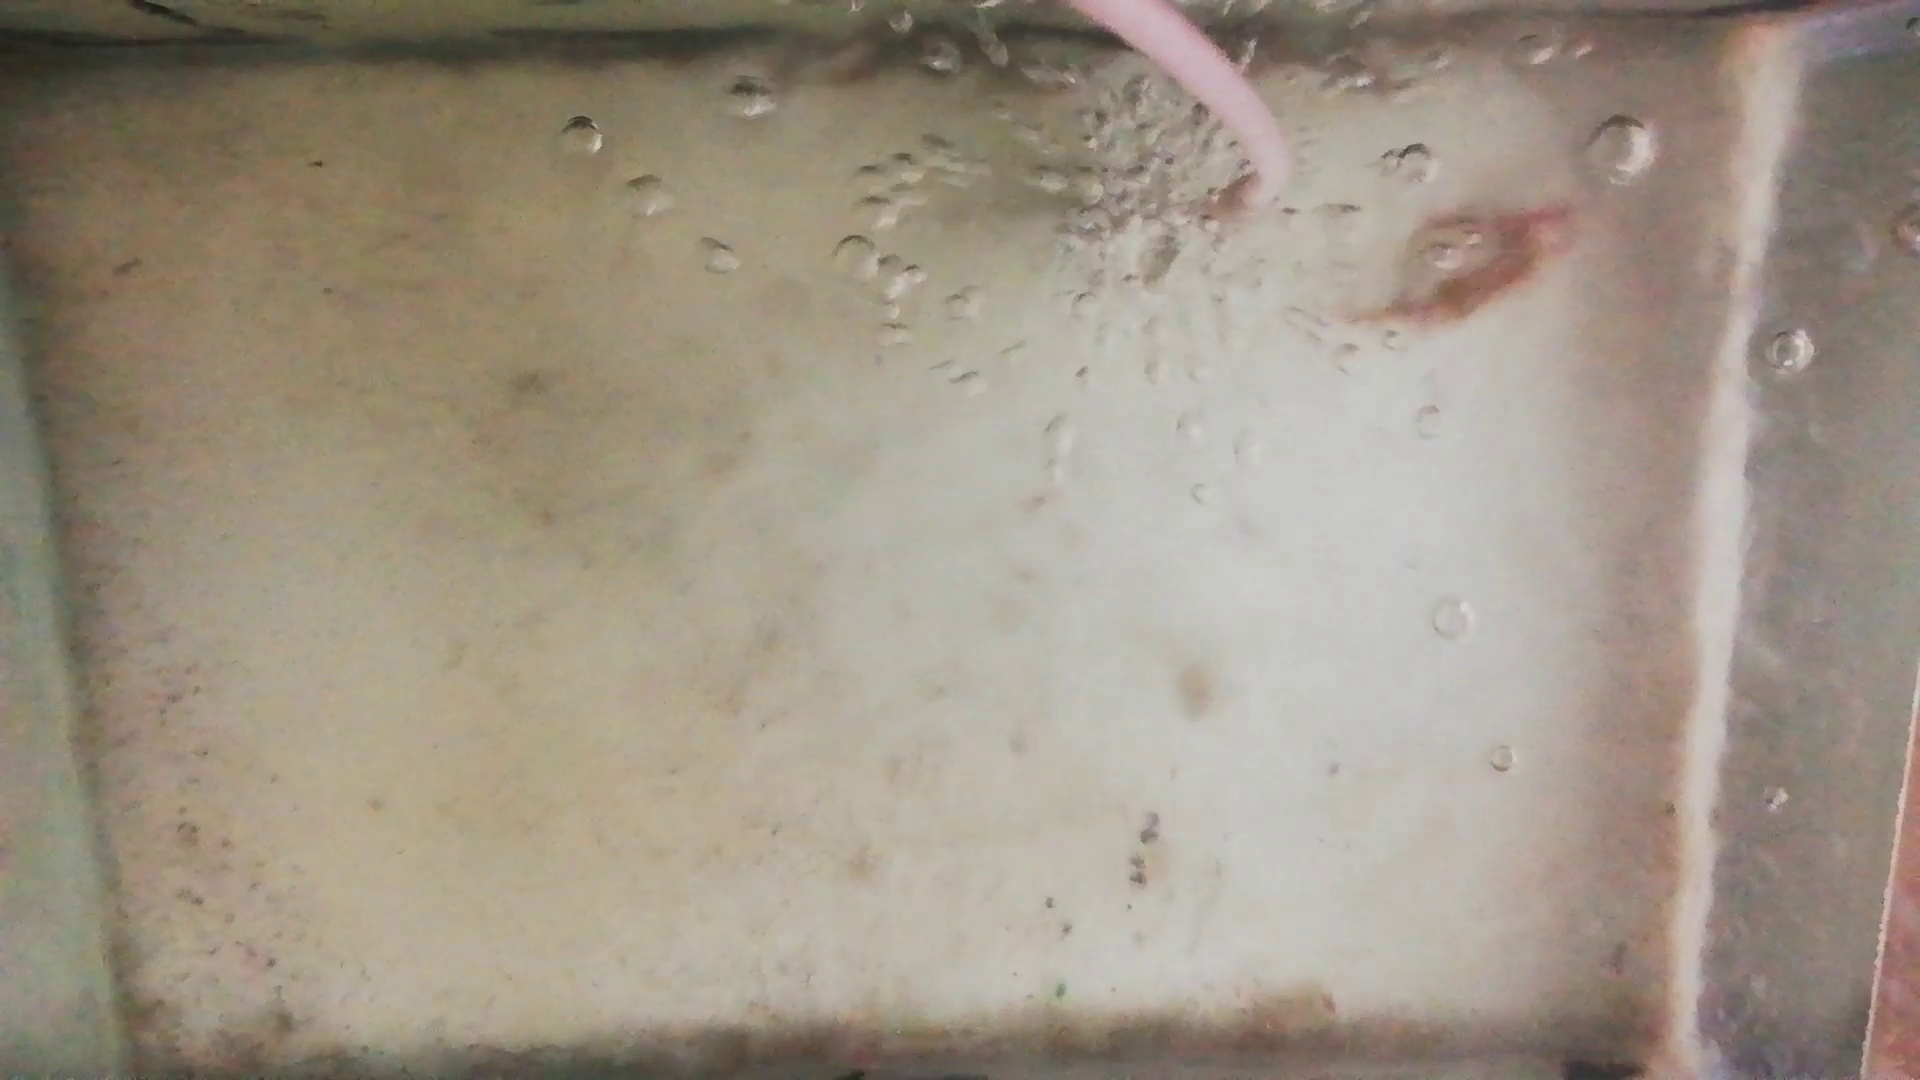fish: (1352, 252, 1542, 330), (1403, 204, 1582, 240)
